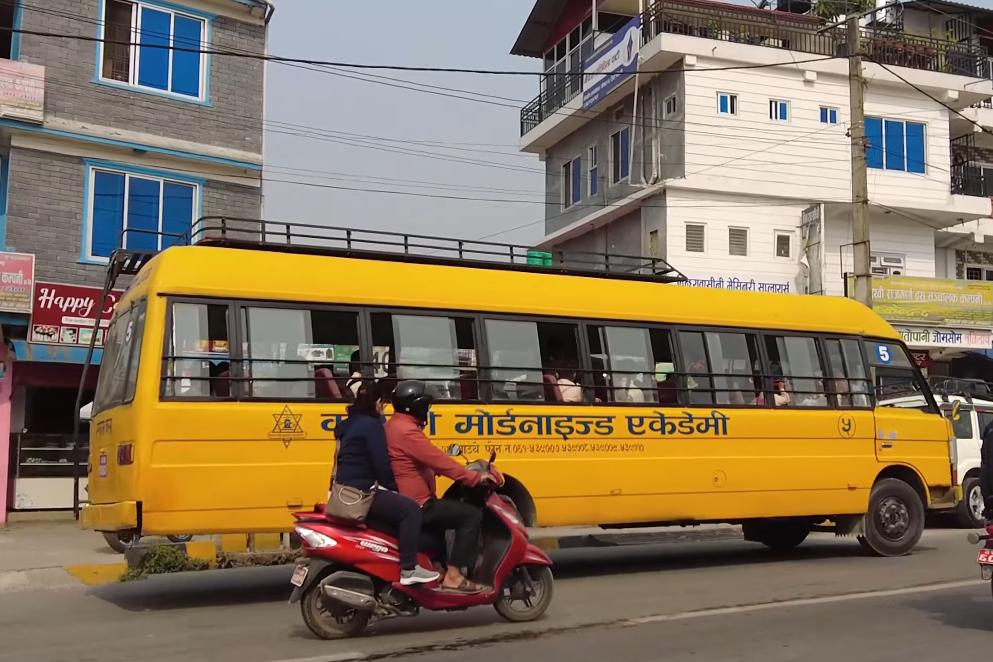school_bus: (57, 203, 970, 609)
scooter: (273, 442, 568, 642)
